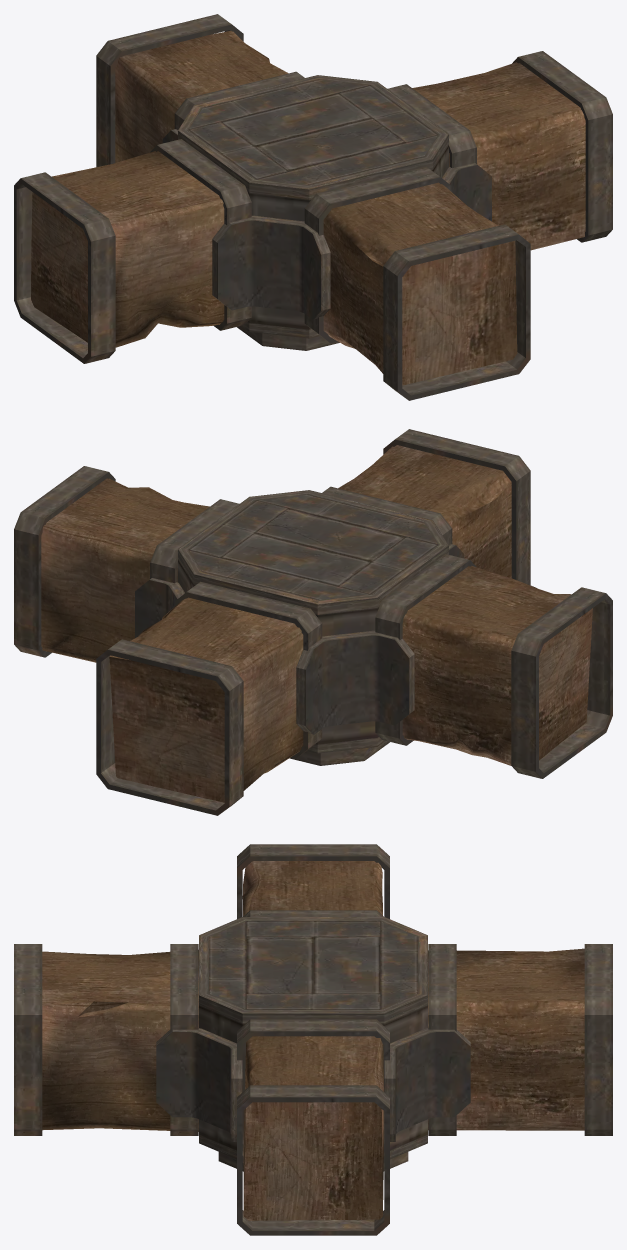
The picture shows the model from 3 angles, top to bottom: view 1: azimuth 30°, elevation 25°; view 2: azimuth 150°, elevation 25°; view 3: azimuth 270°, elevation 25°; orthographic projection.
Parts seen in each view (by area): view 1: SM_WoodSupport_Middle_01_LOD0; view 2: SM_WoodSupport_Middle_01_LOD0; view 3: SM_WoodSupport_Middle_01_LOD0.
Boxes of the visible parts, x1,y1,x2,y2 form: SM_WoodSupport_Middle_01_LOD0: (14,14,612,400); SM_WoodSupport_Middle_01_LOD0: (14,429,612,815); SM_WoodSupport_Middle_01_LOD0: (14,844,612,1235).
Size of the model in its own units: 4.22 by 1.32 by 4.22.
Materials: 2 (2 with a texture image).
